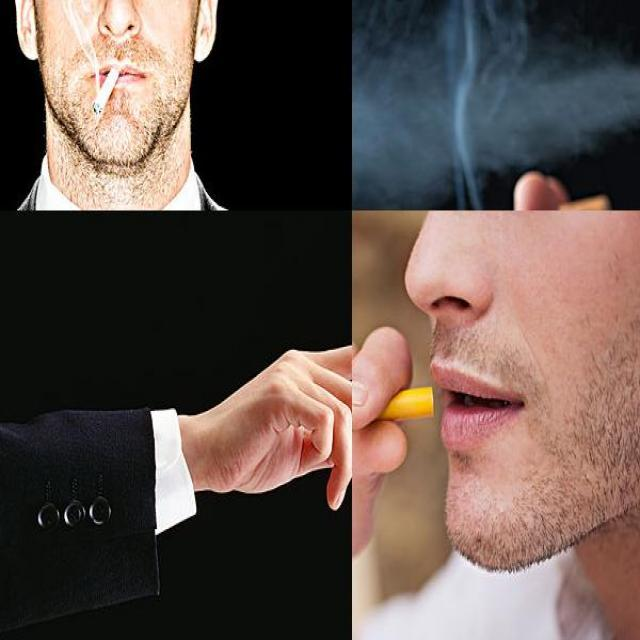cigarette: (352, 384, 436, 451), (429, 189, 626, 209), (90, 61, 124, 118)
